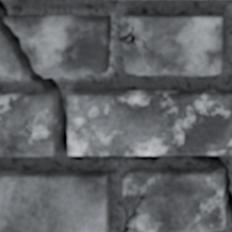brick: (67, 90, 231, 154), (0, 170, 108, 231), (123, 169, 225, 231), (120, 15, 223, 74), (0, 93, 57, 155)
broken_brick: (5, 14, 110, 76), (0, 35, 22, 77)
crack: (0, 0, 231, 229), (119, 25, 153, 55), (121, 192, 145, 231)
